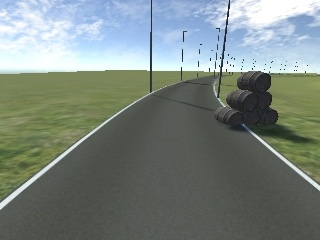strange_object: (212, 68, 279, 130)
